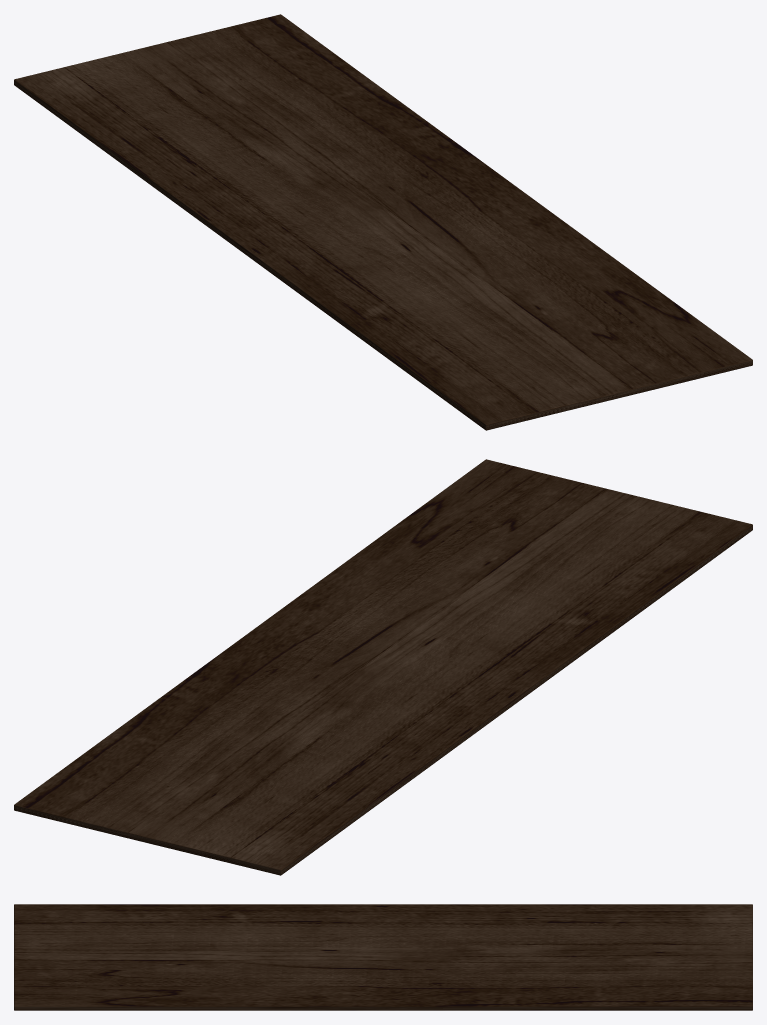
Rendered from Plank.fbx.
The picture shows the model from 3 angles, top to bottom: view 1: azimuth 30°, elevation 25°; view 2: azimuth 150°, elevation 25°; view 3: azimuth 270°, elevation 25°; orthographic projection. The views are drawn at different scales.
Parts seen in each view (by area): view 1: Cube.006; view 2: Cube.006; view 3: Cube.006.
Boxes of the visible parts, box(x1,y1,x2,y2) form: Cube.006: box(14, 14, 752, 430); Cube.006: box(14, 459, 752, 875); Cube.006: box(14, 904, 752, 1010).
Bounding box in the file's own units: 163 × 3.65 × 500.
Materials: 1 (1 with a texture image).
